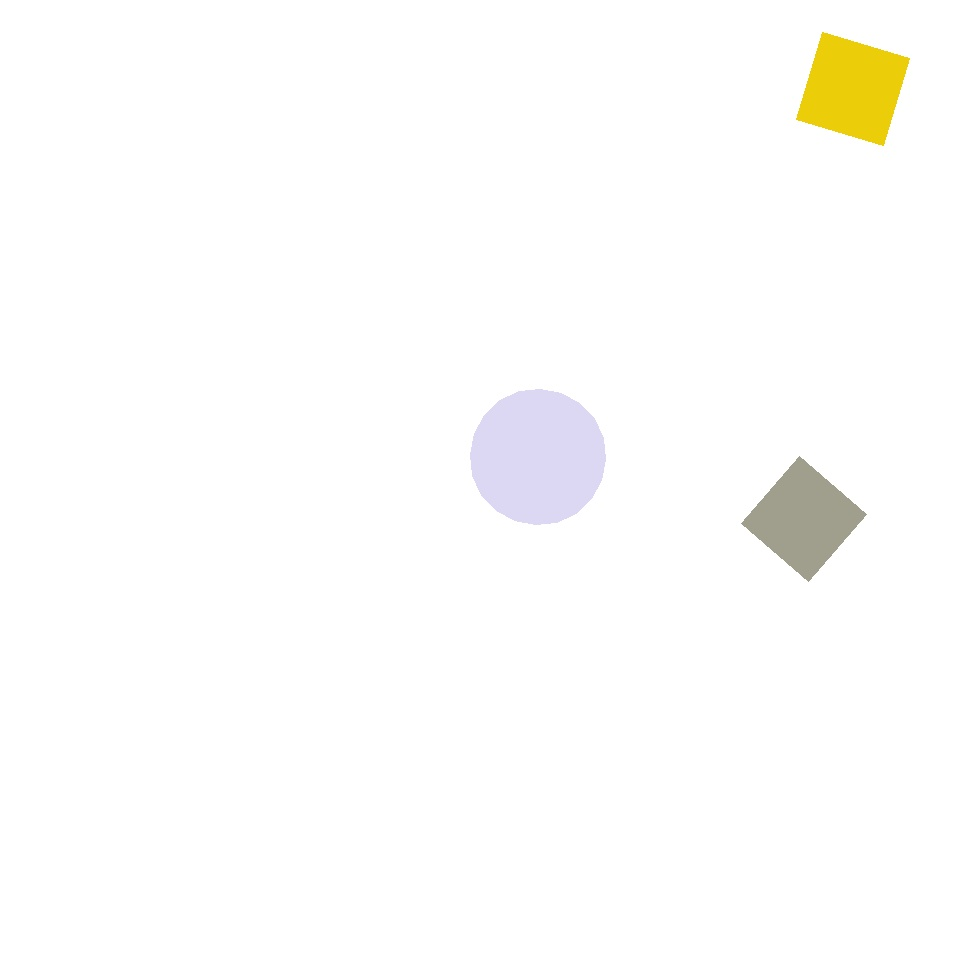square: (283, 518, 454, 689), (742, 456, 866, 582), (82, 284, 197, 400), (796, 33, 910, 146)
triangle: (346, 253, 672, 578), (344, 457, 537, 650), (470, 390, 606, 524)
